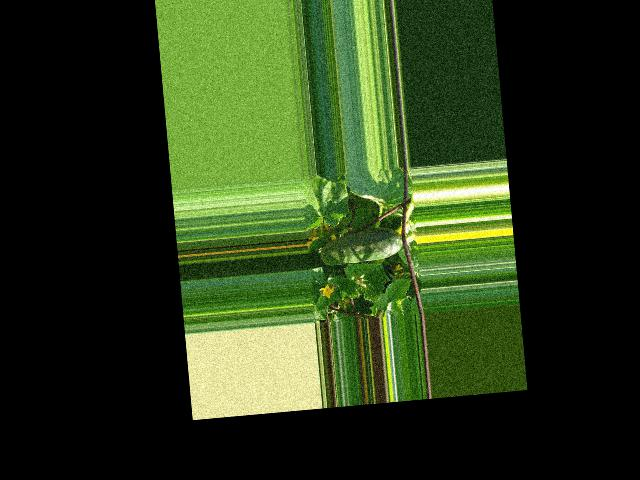cucumber: (317, 224, 403, 266)
